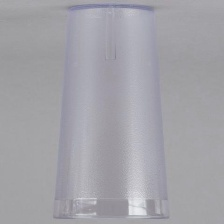glass: (51, 1, 172, 220)
